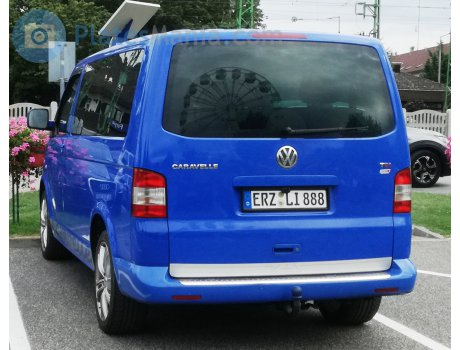License Plates: (249, 190, 326, 206)
